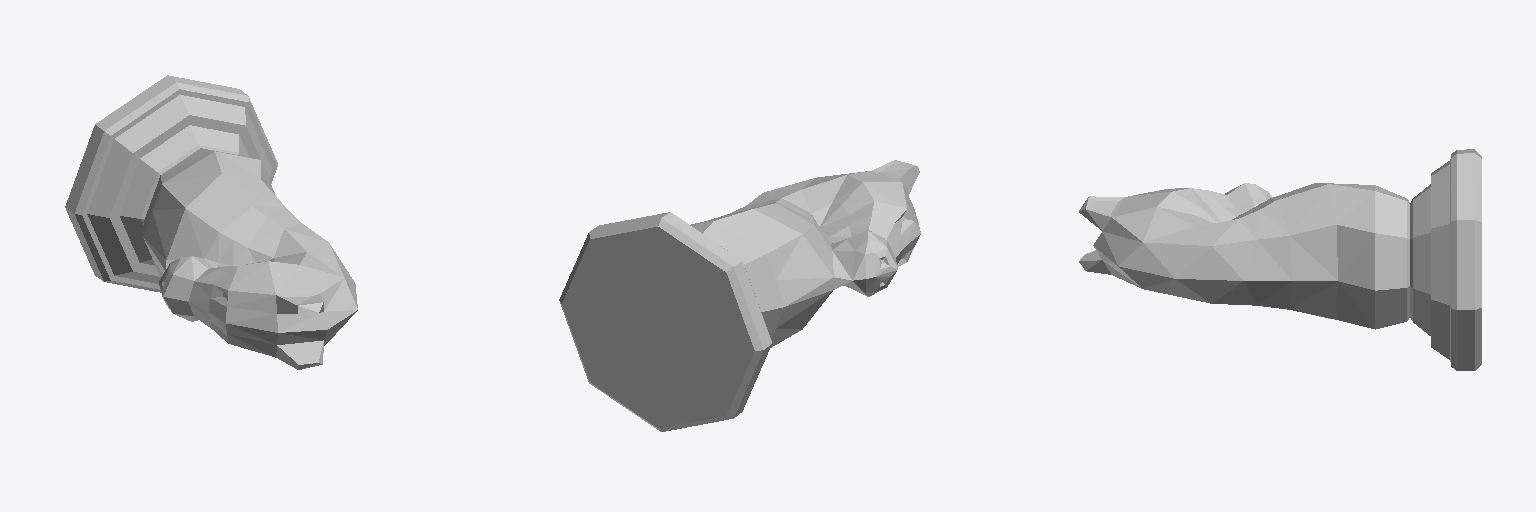
The model's file is Knight-broken.obj.
3 renders of one model, left to right at view 1: azimuth 30°, elevation 25°; view 2: azimuth 150°, elevation 25°; view 3: azimuth 270°, elevation 25°, orthographic.
Parts seen in each view (by area): view 1: Object.1, Object.7, Object.6, Object.5, Object.4, Object.3; view 2: Object.1, Object.5, Object.3, Object.6, Object.4, Object.7; view 3: Object.1, Object.7, Object.6, Object.2, Object.4, Object.8, Object.5.
Part boxes in pixels (x1,y1,x2,y2): Object.1: (65, 75, 277, 292); Object.7: (252, 245, 357, 369); Object.6: (159, 188, 318, 321); Object.5: (160, 242, 304, 351); Object.4: (160, 160, 276, 271); Object.3: (143, 157, 221, 276); Object.1: (559, 212, 771, 431); Object.5: (791, 181, 920, 290); Object.3: (725, 216, 820, 347); Object.6: (724, 192, 880, 296); Object.4: (704, 206, 832, 334); Object.7: (779, 160, 919, 222); Object.1: (1360, 149, 1481, 370); Object.7: (1079, 193, 1208, 293); Object.6: (1209, 187, 1304, 312); Object.2: (1329, 195, 1387, 329); Object.4: (1305, 183, 1359, 320); Object.8: (1167, 229, 1239, 303); Object.5: (1143, 183, 1267, 227).
Bounding box in the file's own units: 24.9 × 22.89 × 39.04.